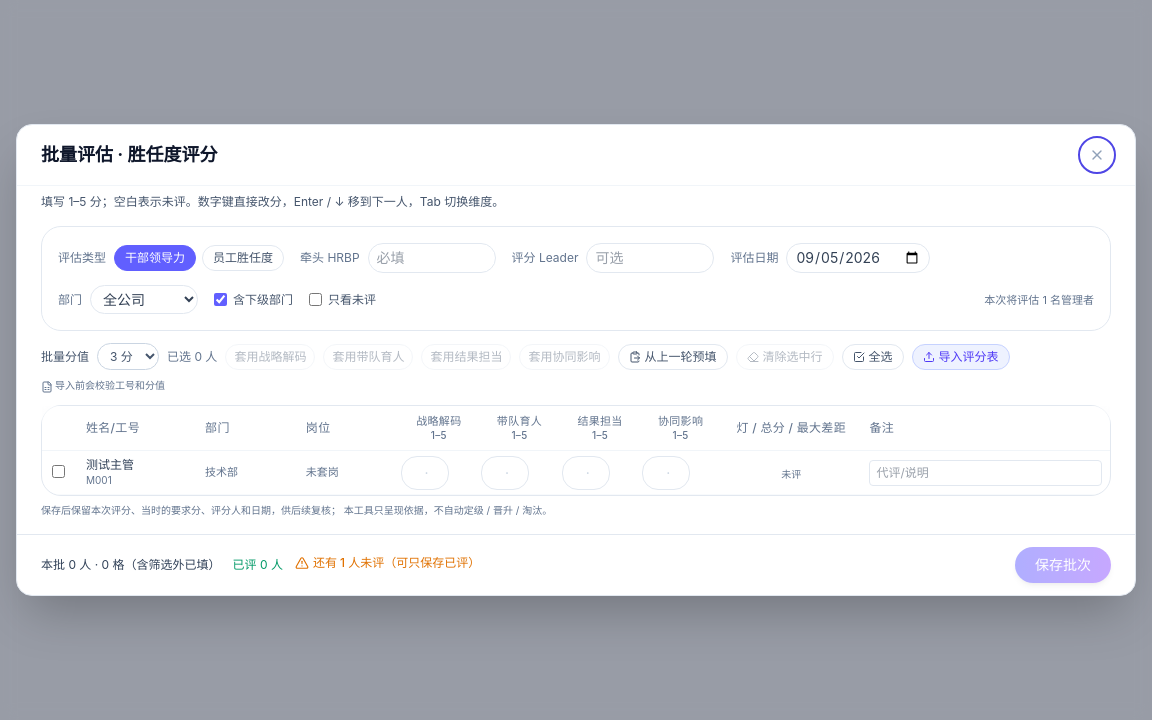
体验断点回归 › 子部门筛选不会泄漏其他部门人员
Expected: the text "测试主管" is shown, [86,458,134,472]
Click the button "员工胜任度": x=243, y=258 [202,246,284,272]
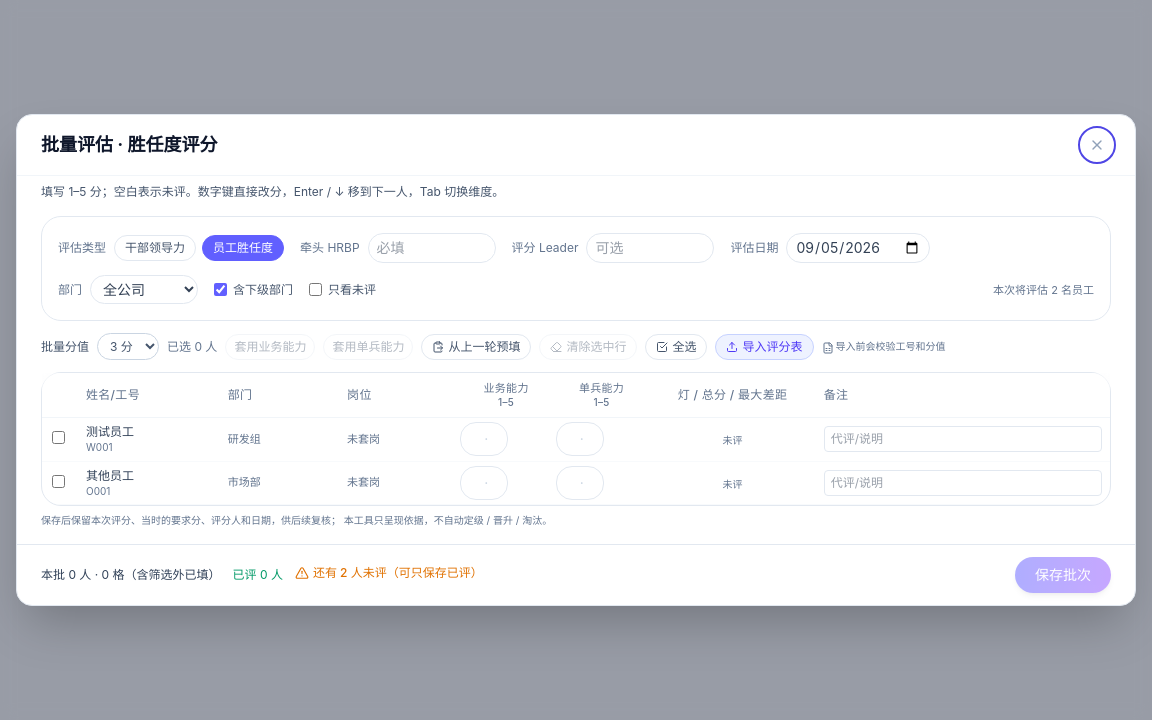
Select "└ 研发组" in the dropdown labelled "部门": x=144, y=290 [90,275,198,304]
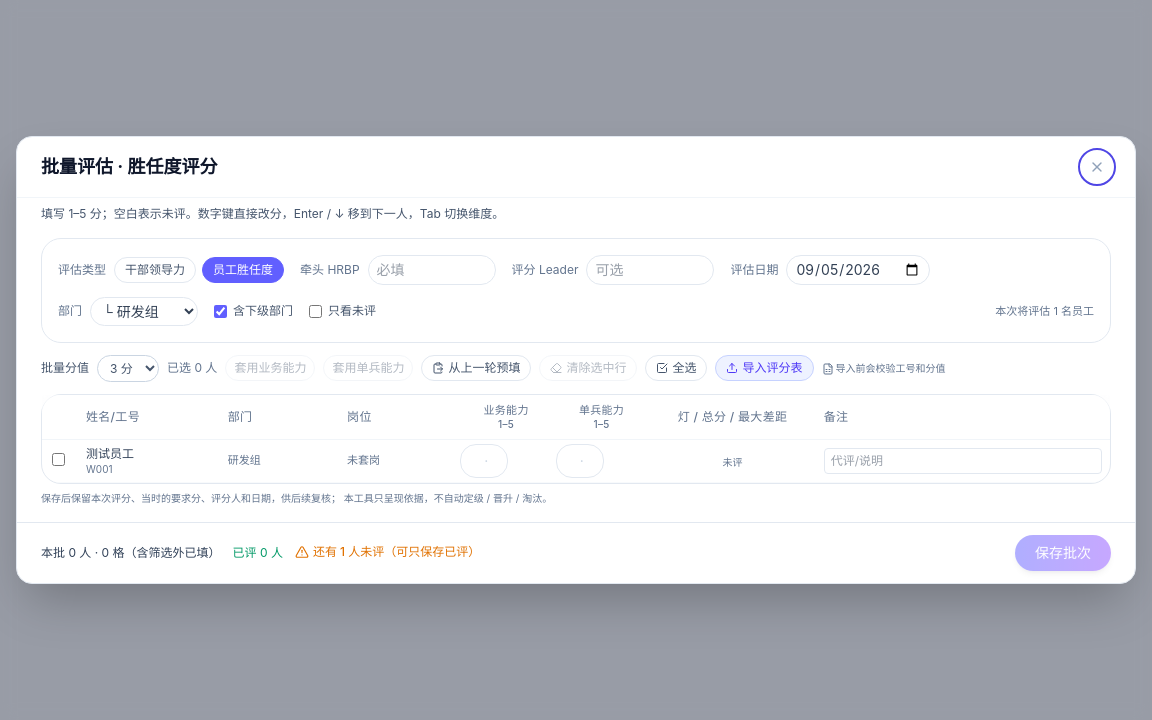
Expected: the text "测试主管" is not shown
Now the text "测试员工" is shown, box [86,446,134,461]
Now the text "其他员工" is gone
